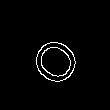O_SE: (24, 28, 88, 92)
